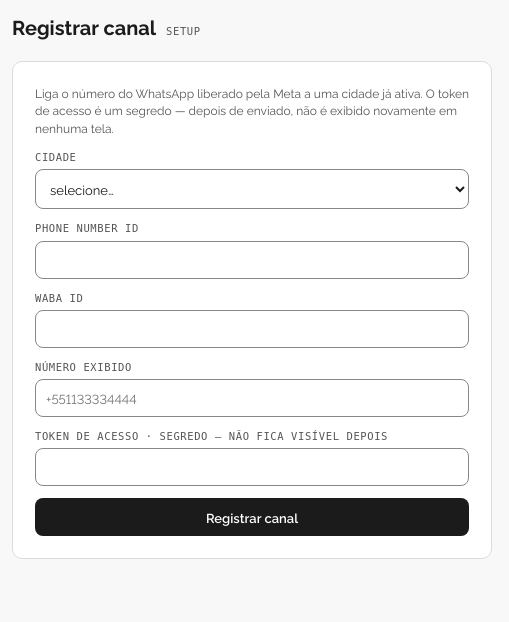
Test: RegisterChannel › shows the mapped error message (404 → unknown city) and keeps the form
The image size is (509, 622).
Select "Curitiba · PR" in the dropdown labelled "Cidade" at (252, 189), box [35,169,469,209]
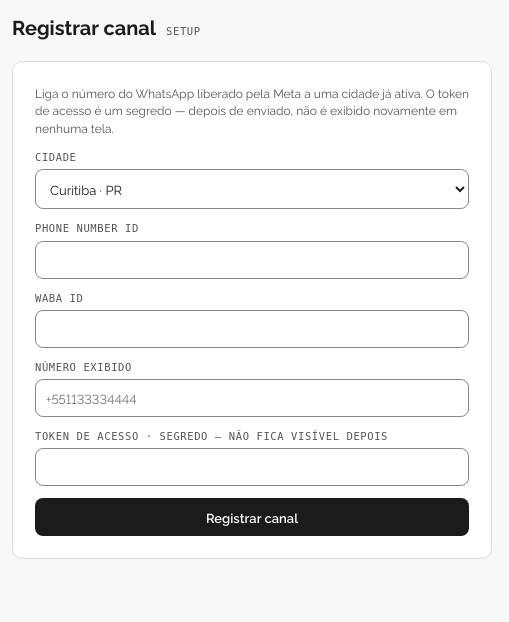
Type "111222333" into the field labelled "Phone number ID".
click(252, 260); type("111222333")  # box [35,241,469,279]
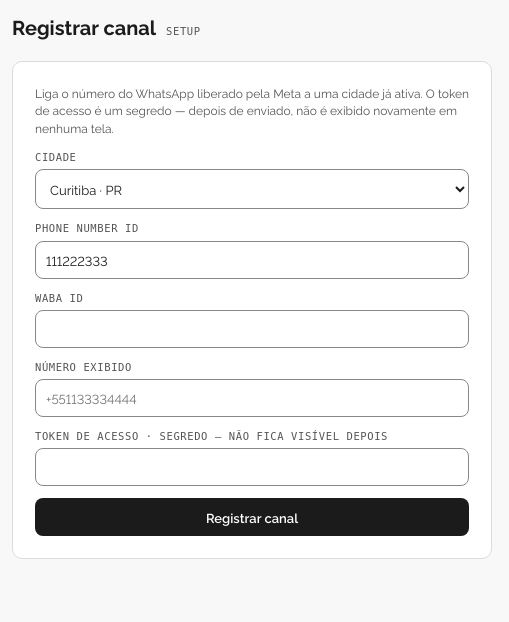
Type "waba-9" into the field labelled "WABA ID".
click(252, 329); type("waba-9")  # box [35,310,469,348]
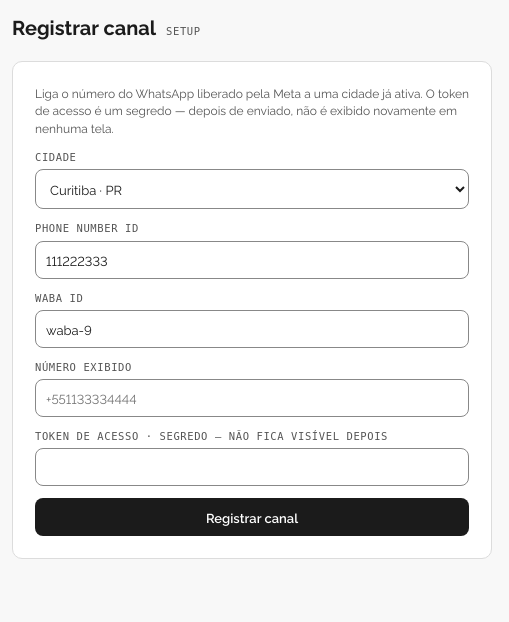
Type "+554133334444" into the field labelled "Número exibido".
click(252, 398); type("+554133334444")  # box [35,379,469,417]
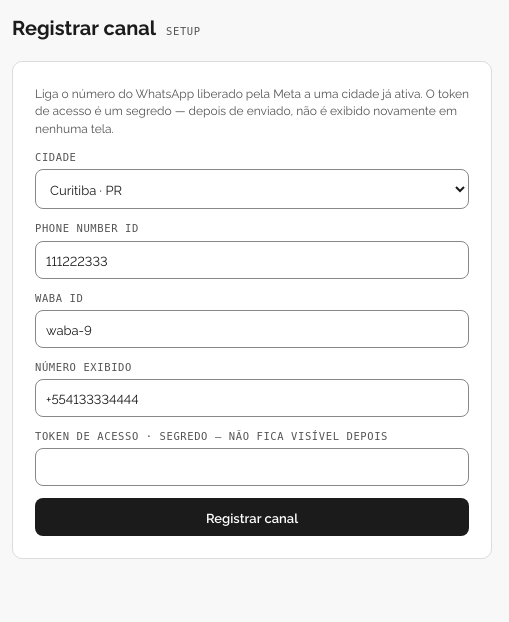
Type "EAAG-secret-token-123" into the password field labelled "Token de acesso · segredo — não fica visível depois".
click(252, 467); type("EAAG-secret-token-123")  # box [35,448,469,486]
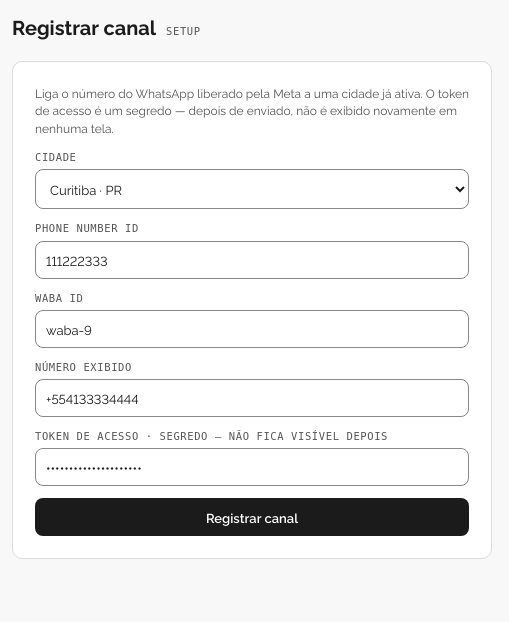
Click the button "Registrar canal".
click(252, 517)  # box [35,498,469,536]
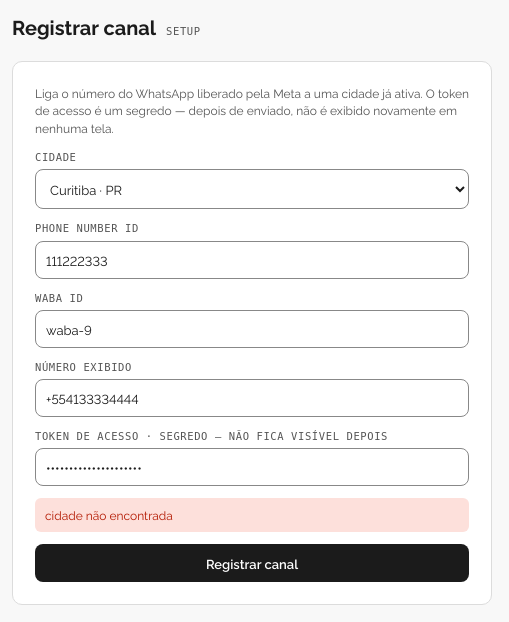
Expected: the message reads "cidade não encontrada", [45,506,173,523]
